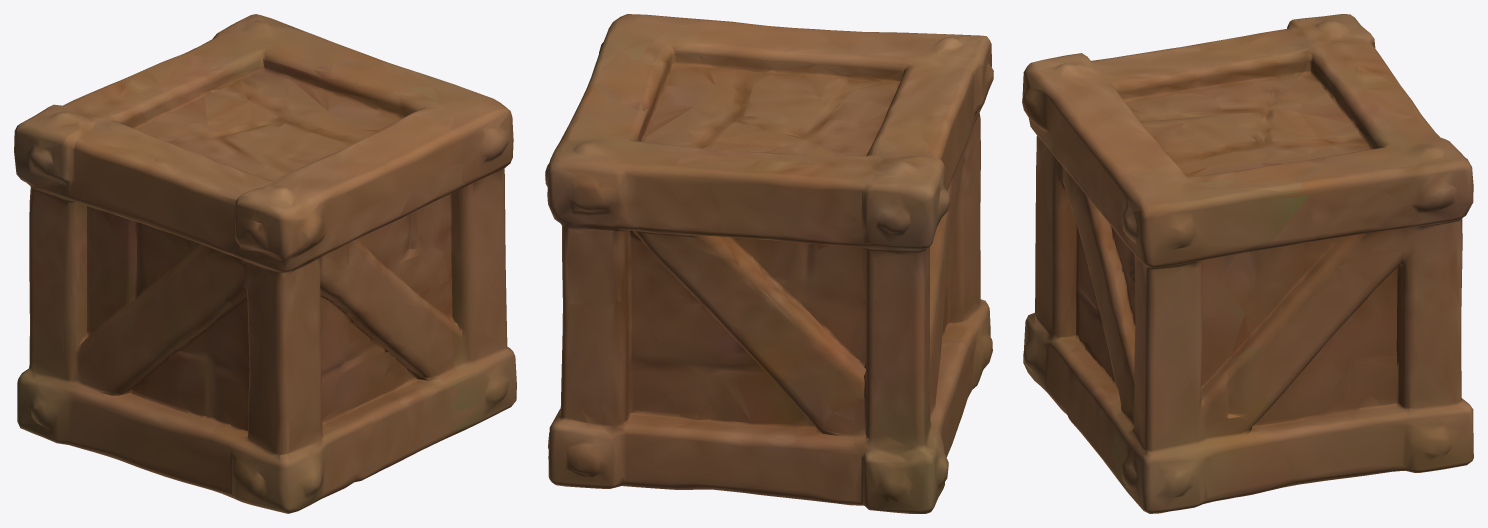
The model's file is caja.glb.
3 renders of one model, left to right at view 1: azimuth 30°, elevation 25°; view 2: azimuth 150°, elevation 25°; view 3: azimuth 270°, elevation 25°, orthographic. The views are drawn at different scales.
Parts seen in each view (by area): view 1: caja_malla; view 2: caja_malla; view 3: caja_malla.
Boxes of the visible parts, left/top/right/bottom form: caja_malla: left=14, top=14, right=516, bottom=513; caja_malla: left=545, top=14, right=993, bottom=513; caja_malla: left=1022, top=14, right=1473, bottom=513.
Size of the model in its own units: 0.1331 by 0.0999 by 0.1284.
Materials: 1 (1 with a texture image).
